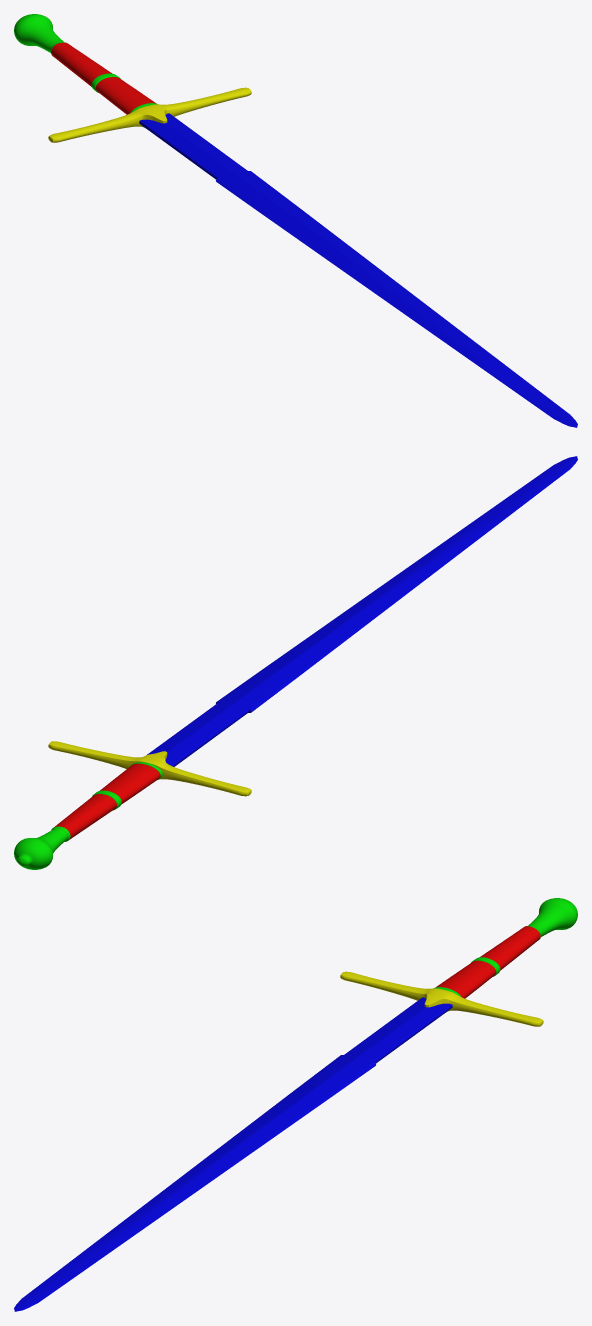
The picture shows the model from 3 angles, top to bottom: view 1: azimuth 30°, elevation 25°; view 2: azimuth 150°, elevation 25°; view 3: azimuth 330°, elevation 25°; orthographic projection.
Parts seen in each view (by area): view 1: LongSword_Hi; view 2: LongSword_Hi; view 3: LongSword_Hi.
Part boxes in pixels (<box>): LongSword_Hi: <box>14,14,577,427</box>; LongSword_Hi: <box>14,456,577,869</box>; LongSword_Hi: <box>14,898,577,1311</box>.
Bounding box in the file's own units: 0.4154 × 0.057 × 2.
